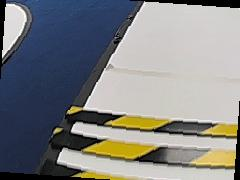bump: (50, 106, 239, 174)
